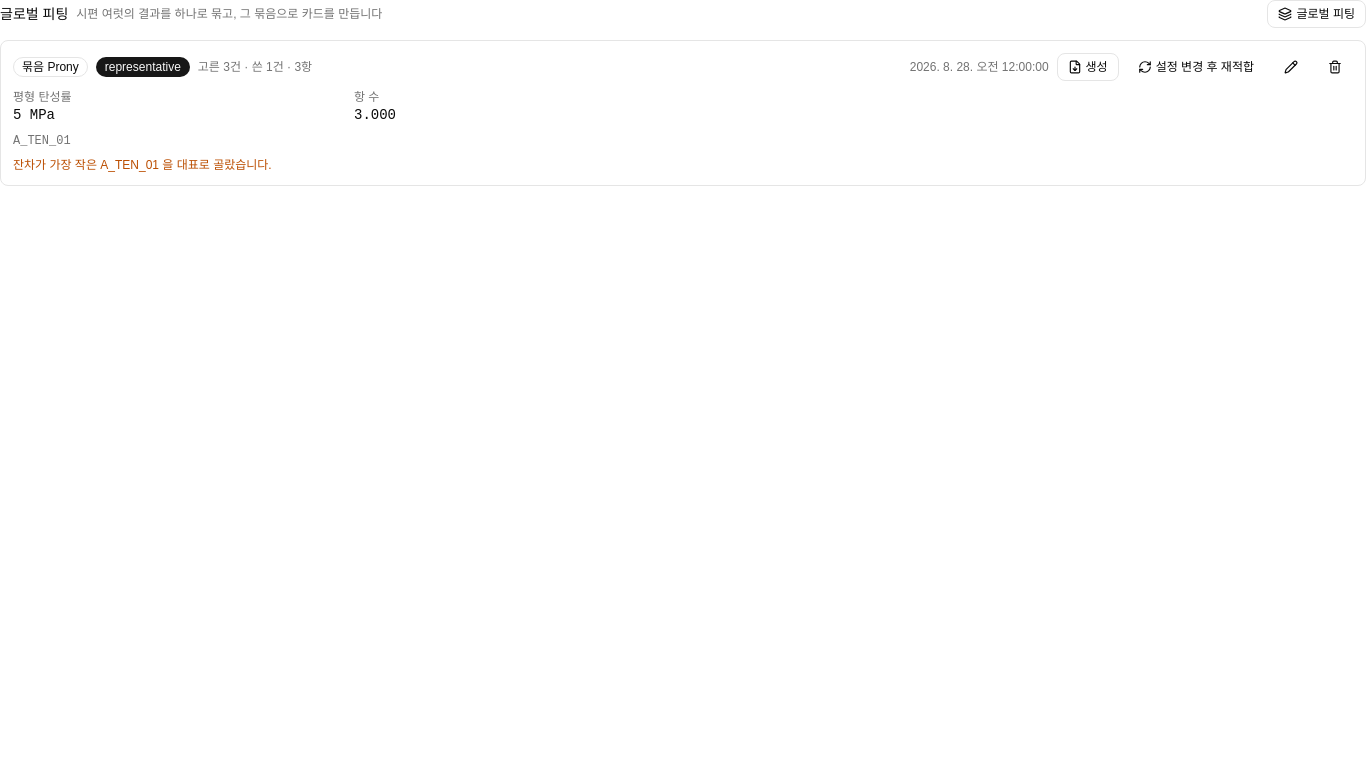
it: 쓰기 쉽게 › 대표 시편 칸은 그 방법일 때만 뜬다
Check: the text "고른 3건 · 쓴 1건 · 3항" is shown, box [198,59,312,75]
Click the button "글로벌 피팅": x=1317, y=14 [1268,0,1365,28]
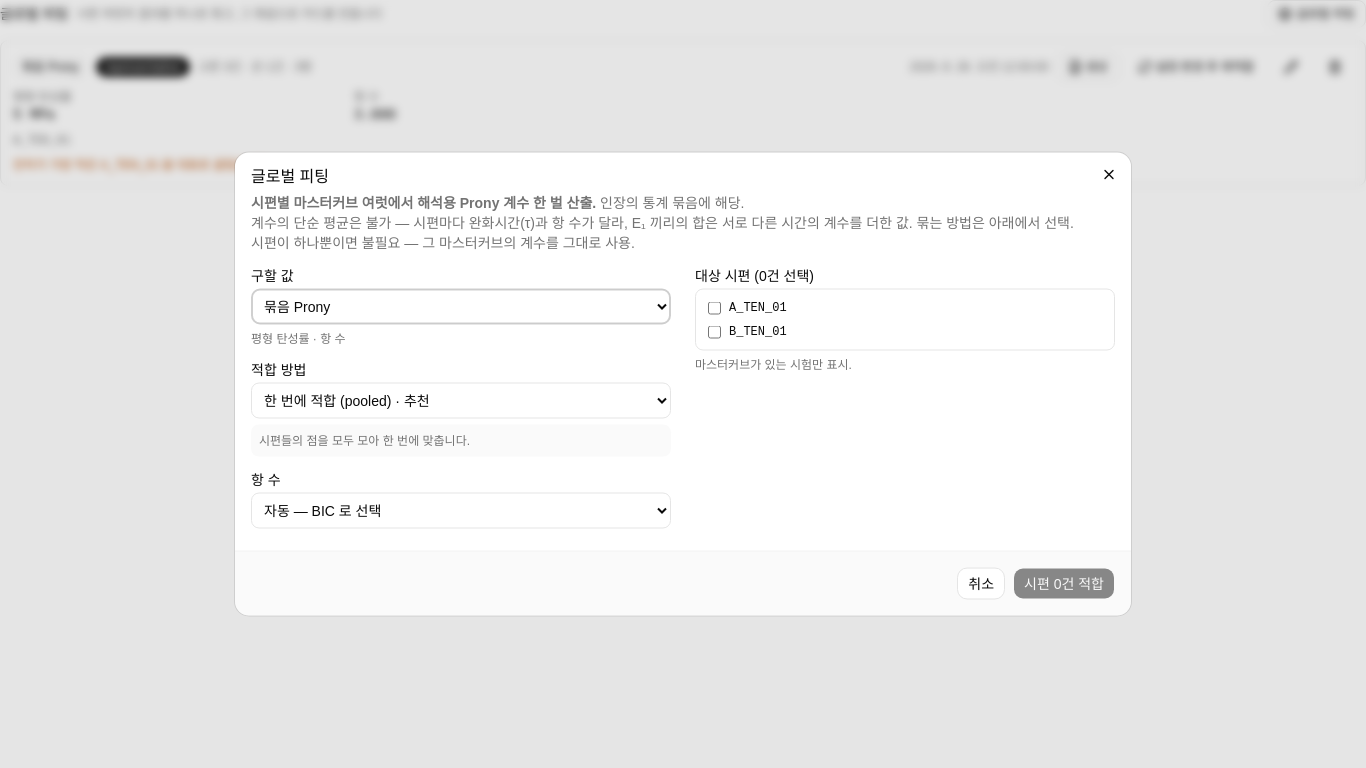
Check: the field labelled "대표 시편" is not shown
Check: the dropdown named "적합 방법" is shown
Select "대표 하나 선택 (representative)" in the dropdown named "적합 방법": x=461, y=400 [251,382,671,418]
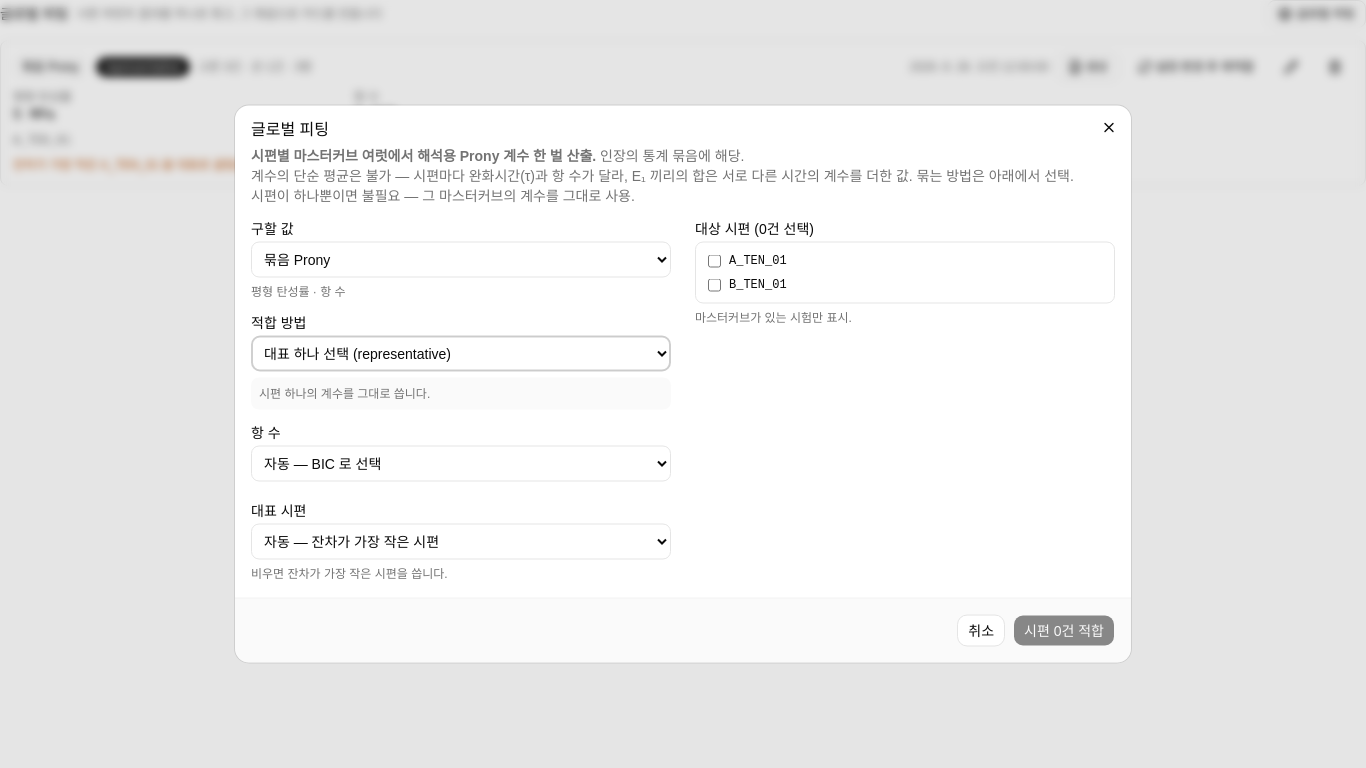
Check: the dropdown named "대표 시편" is shown, box [251,524,671,560]
